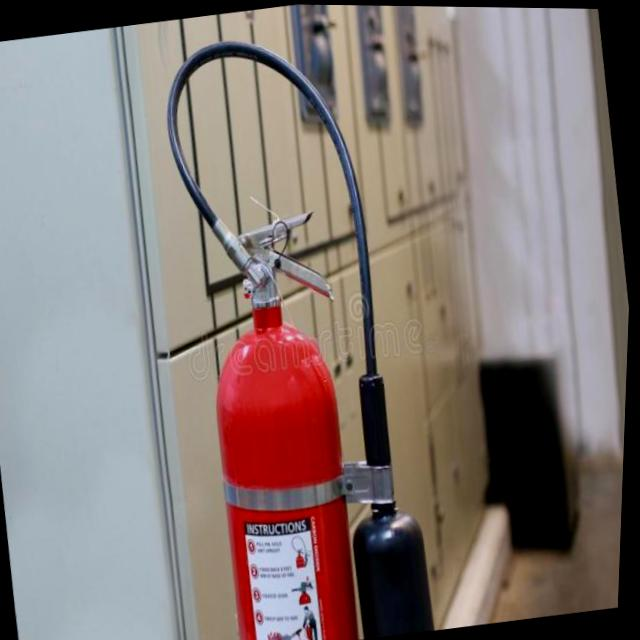FireExtinguisher: (136, 14, 462, 640)
